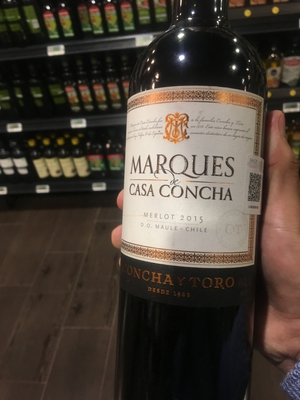marques de casa concha merlot: (118, 29, 281, 400)
